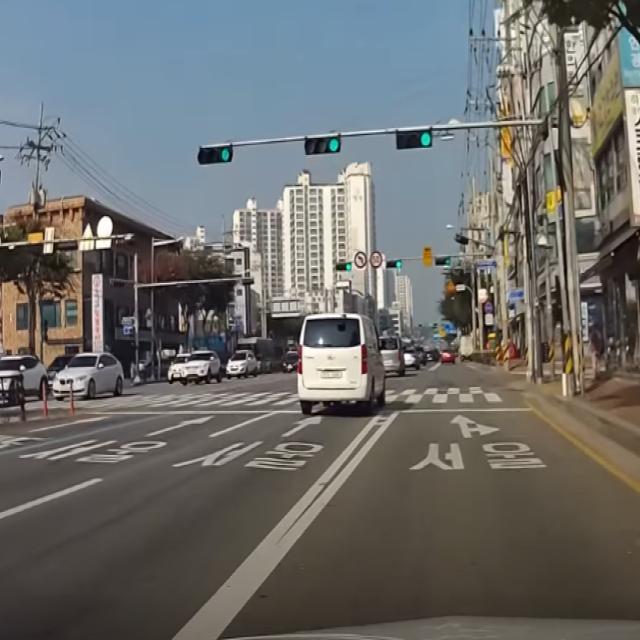Green Light: (327, 136, 341, 153), (418, 131, 432, 148), (219, 145, 231, 163)
